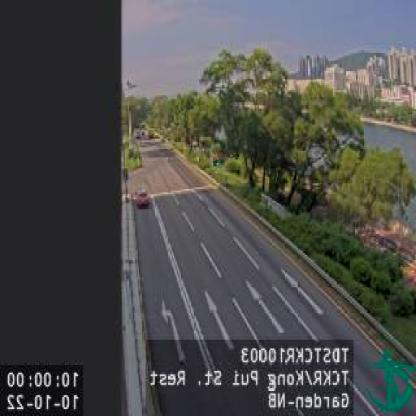Car: (134, 187, 150, 208)
